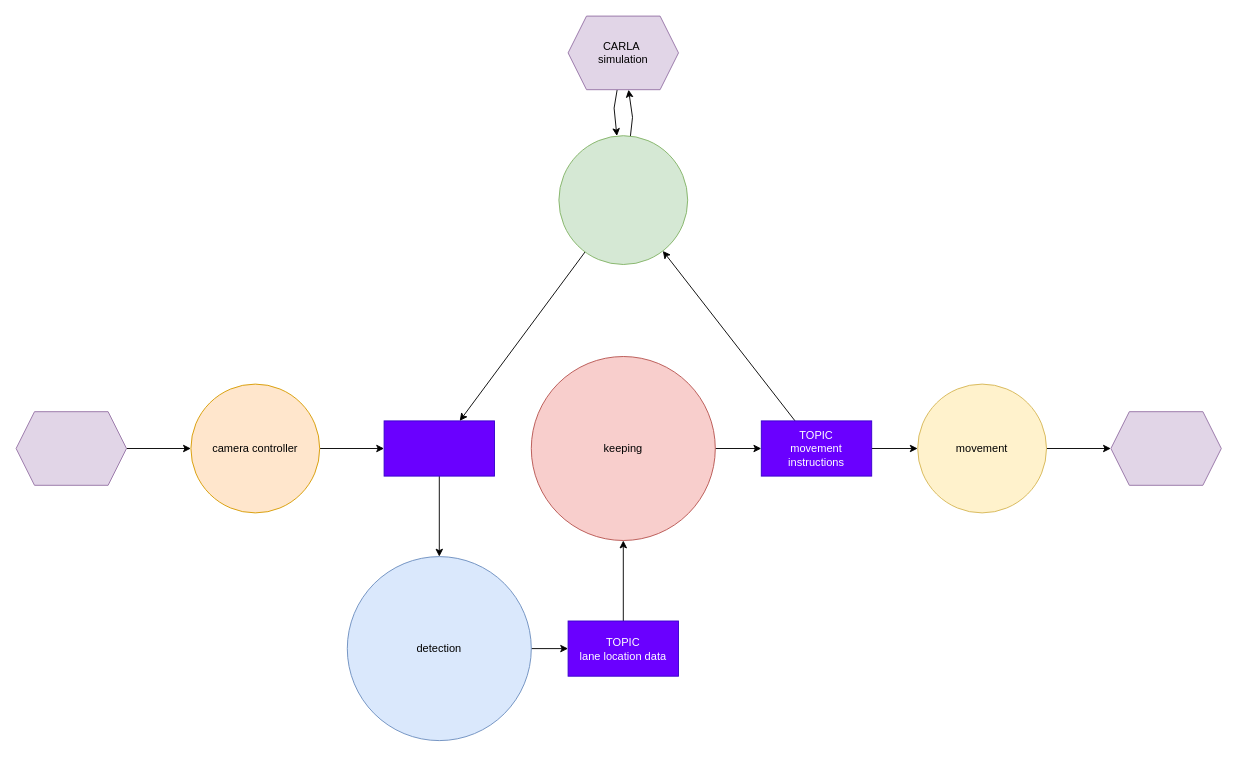
Some shapes in this 1237 by 757 pixel diagram are drawn without their labels. Each missing label, with the box of its shape:
camera: (15, 411, 126, 485)
CARLA ROS BRIDGE: (558, 135, 688, 264)
TOPIC image data: (383, 420, 494, 476)
vehicle hardware: (1110, 411, 1221, 485)
